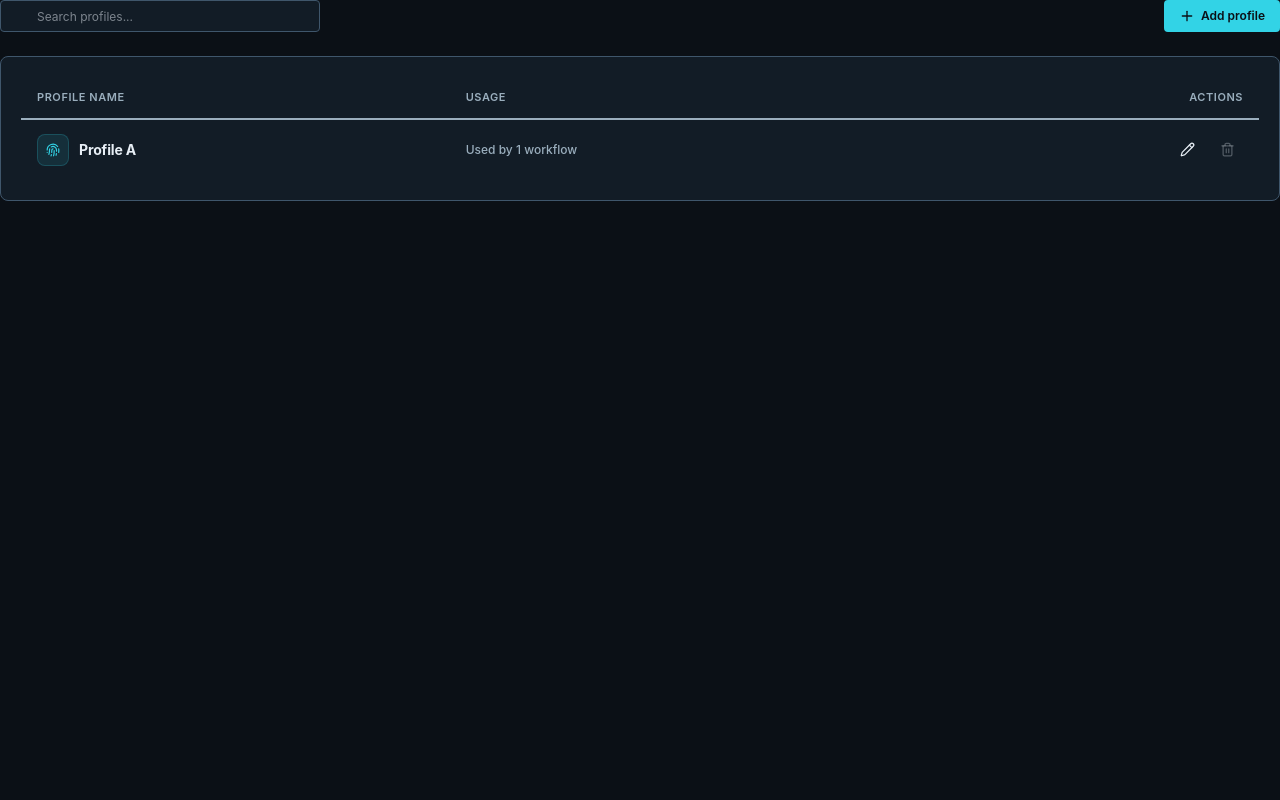
Test case: ProjectProfilesPanel › renders profile list and details
Expected: the heading "Profile A" is shown, [79,140,136,160]
Expected: the text "Used by 1 workflow" is shown, [450,118,919,180]
Click the button named "Configure profile Profile A" at (1187, 150), box [1171,134,1203,166]
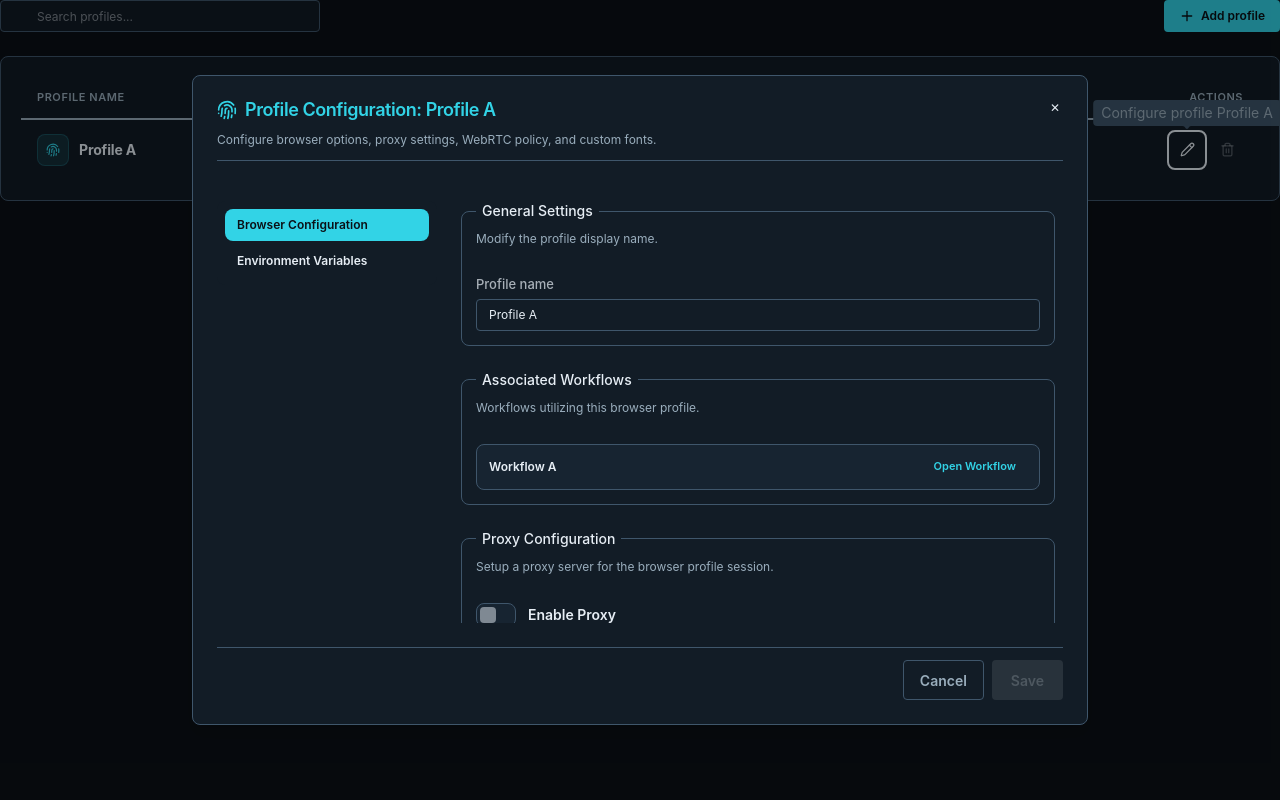
Now the field named "Profile name for Profile A" holds "Profile A", box [476,298,1040,330]
